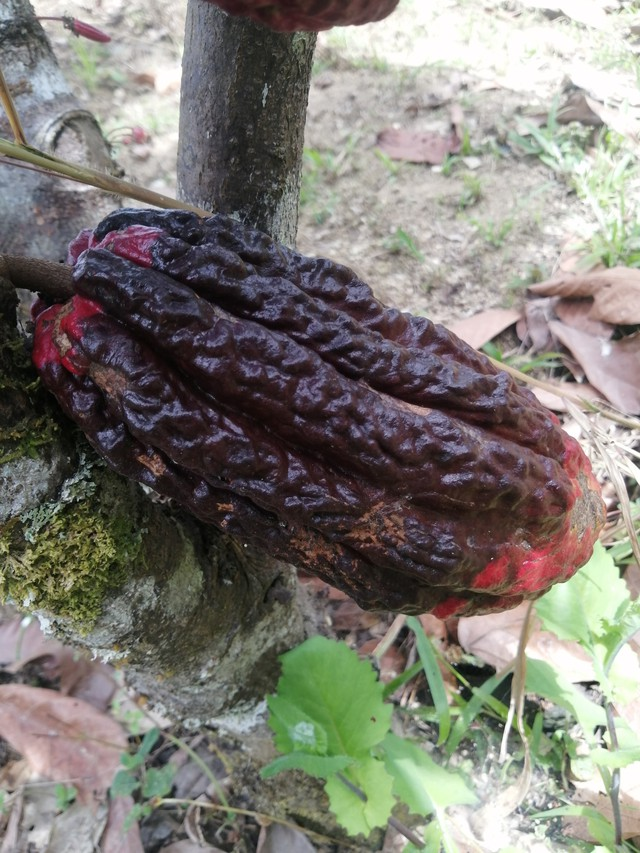phytophthora palmivora: (17, 189, 615, 628)
